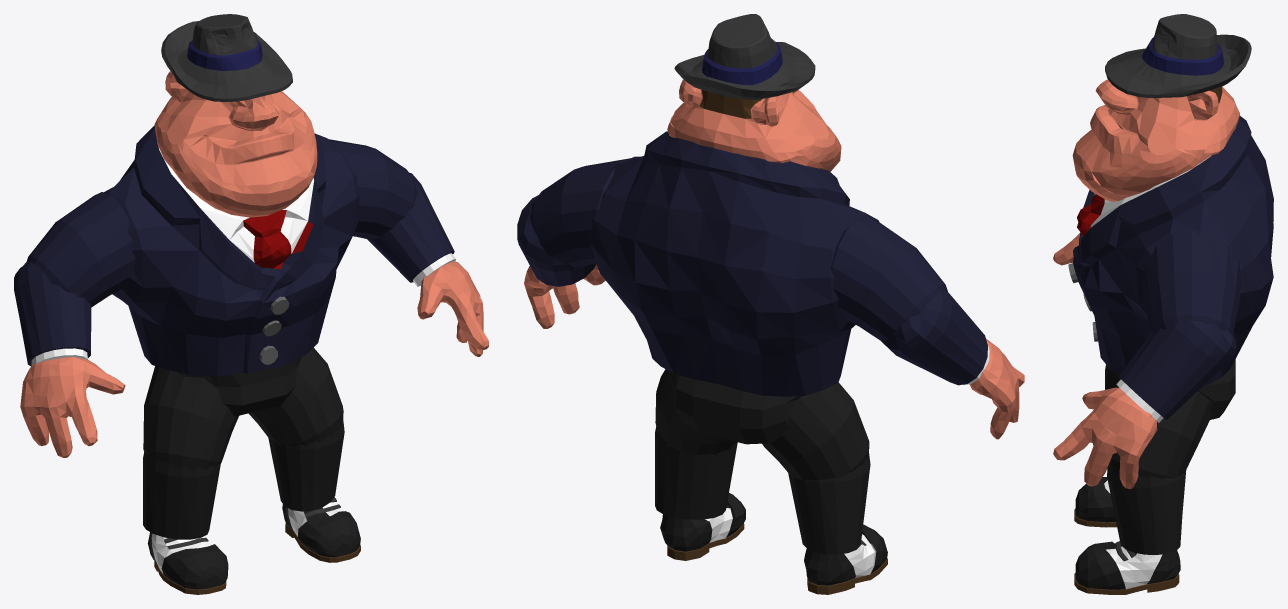
The picture shows the model from 3 angles, left to right: view 1: azimuth 30°, elevation 25°; view 2: azimuth 150°, elevation 25°; view 3: azimuth 270°, elevation 25°; orthographic projection. The views are drawn at different scales.
Visible parts, largest first — view 1: coat, face, uparmR, uplegR, hat, handR, lowarmR, lowlegR, uplegL, uparmL, lowlegL, lowarmL (+9 smaller); view 2: coat, uparmR, face, uplegR, hat, pelvis, lowarmR, uparmL, lowlegR, lowlegL, handR, uplegL (+8 smaller); view 3: coat, face, uparmL, hat, lowarmL, handL, lowlegL, uplegL, shoe1L, band, pelvis, shoe1R (+6 smaller).
Part boxes in pixels (box(x1,y1,x2,y2)): coat: box(104, 125, 359, 376); face: box(154, 71, 317, 217); uparmR: box(26, 192, 135, 307); uplegR: box(143, 366, 238, 471); hat: box(161, 14, 292, 101); handR: box(20, 356, 125, 457); lowarmR: box(14, 261, 91, 366); lowlegR: box(143, 452, 220, 539); uplegL: box(248, 347, 343, 446); uparmL: box(329, 139, 417, 239); lowlegL: box(268, 421, 344, 511); lowarmL: box(367, 172, 454, 282); coat: box(588, 131, 879, 396); uparmR: box(831, 215, 947, 340); face: box(667, 79, 841, 171); uplegR: box(762, 382, 869, 480); hat: box(674, 14, 815, 100); pelvis: box(669, 371, 801, 444); lowarmR: box(881, 290, 987, 385); uparmL: box(530, 158, 630, 267); lowlegR: box(788, 454, 870, 554); lowlegL: box(655, 426, 737, 519); handR: box(969, 339, 1024, 439); uplegL: box(655, 369, 736, 454); coat: box(1073, 115, 1273, 384); face: box(1072, 79, 1239, 201); uparmL: box(1141, 231, 1242, 334); hat: box(1105, 14, 1251, 97); lowarmL: box(1118, 319, 1236, 419); handL: box(1053, 387, 1157, 489); lowlegL: box(1107, 468, 1186, 554); uplegL: box(1107, 386, 1211, 478); shoe1L: box(1075, 541, 1180, 589); band: box(1141, 37, 1223, 75); pelvis: box(1105, 359, 1235, 419); shoe1R: box(1075, 477, 1115, 522).
Size of the model in its own units: 5.42 by 5.89 by 2.22.
